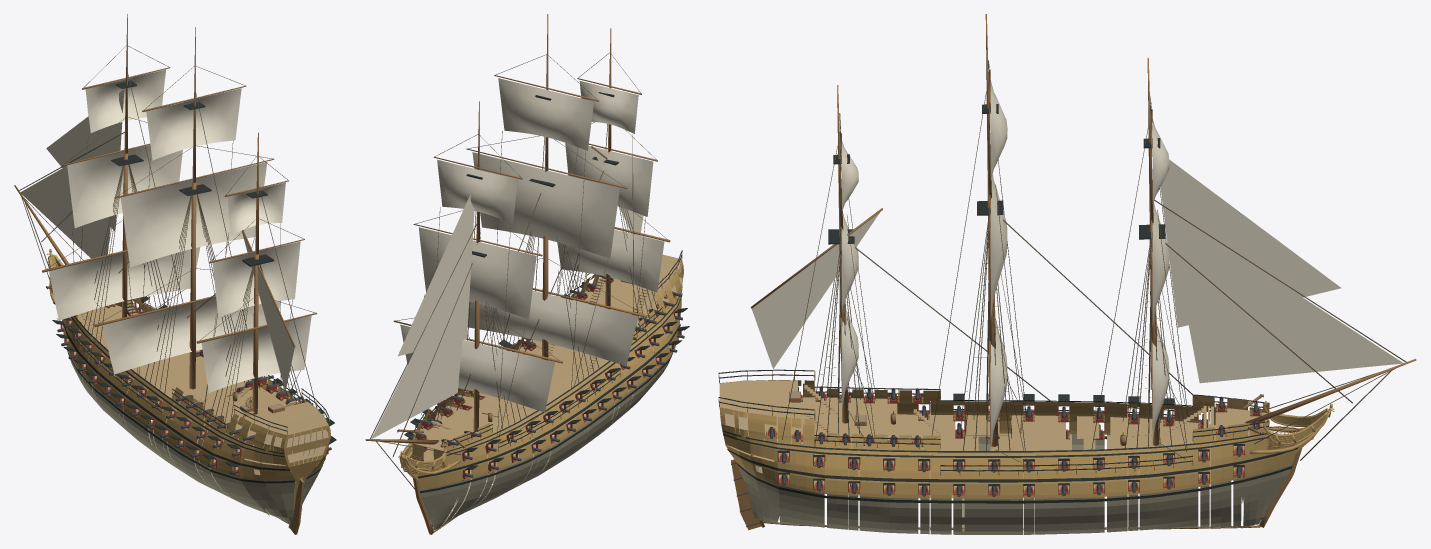
The model's file is bellona-lod1-mid.glb.
3 views of the same model, side by side, from view 1: azimuth 30°, elevation 25°; view 2: azimuth 150°, elevation 25°; view 3: azimuth 270°, elevation 25° (orthographic). The views are drawn at different scales.
Visible parts, largest first — view 1: canvas_main_1, sails__Unbleached_canvas.001, hull__Ochre_timber.001, rigging__Tarred_hemp.001, canvas_main_0, canvas_fore_0, hull_lower, canvas_fore_1, canvas_main_2, canvas_mizzen_0, canvas_mizzen_1, upper_gundeck (+16 smaller); view 2: sails__Unbleached_canvas.001, canvas_main_1, hull__Ochre_timber.001, canvas_main_0, hull_lower, rigging__Tarred_hemp.001, canvas_fore_1, canvas_fore_0, canvas_main_2, canvas_mizzen_0, upper_gundeck, canvas_mizzen_1 (+15 smaller); view 3: sails__Unbleached_canvas.001, hull__Ochre_timber.001, hull_lower, rigging__Tarred_hemp.001, upper_gundeck, hull__Black_tar_wales.001, upper_works__Ochre_timber.001, quarterdeck, decks__Black_tar_wales.001, poop_deck, lower_gundeck, hull__Gunport_inner_red.001 (+14 smaller).
Boxes of the visible parts, x1,y1,x2,y2 form: canvas_main_1: (120, 162, 267, 267); sails__Unbleached_canvas.001: (20, 89, 294, 391); hull__Ochre_timber.001: (63, 299, 328, 513); rigging__Tarred_hemp.001: (18, 45, 316, 430); canvas_main_0: (102, 297, 280, 374); canvas_fore_0: (49, 247, 200, 320); hull_lower: (63, 325, 322, 522); canvas_fore_1: (67, 145, 182, 227); canvas_main_2: (146, 88, 241, 160); canvas_mizzen_0: (201, 315, 311, 392); canvas_mizzen_1: (212, 241, 300, 317); upper_gundeck: (69, 305, 326, 465); sails__Unbleached_canvas.001: (371, 149, 643, 438); canvas_main_1: (472, 152, 619, 258); hull__Ochre_timber.001: (412, 293, 681, 489); canvas_main_0: (467, 290, 638, 365); hull_lower: (420, 345, 675, 530); rigging__Tarred_hemp.001: (370, 52, 667, 489); canvas_fore_1: (418, 227, 536, 319); canvas_fore_0: (400, 324, 554, 412); canvas_main_2: (498, 78, 593, 150); canvas_mizzen_0: (558, 229, 664, 292); upper_gundeck: (423, 301, 677, 466); canvas_mizzen_1: (565, 143, 653, 216); sails__Unbleached_canvas.001: (752, 160, 1403, 383); hull__Ochre_timber.001: (722, 400, 1298, 498); hull_lower: (736, 433, 1292, 534); rigging__Tarred_hemp.001: (780, 60, 1406, 466); upper_gundeck: (726, 414, 1264, 474); hull__Black_tar_wales.001: (722, 400, 1298, 503); upper_works__Ochre_timber.001: (719, 380, 1269, 450); quarterdeck: (723, 397, 897, 446); decks__Black_tar_wales.001: (718, 369, 1268, 471); poop_deck: (719, 380, 797, 417); lower_gundeck: (758, 433, 1244, 498); hull__Gunport_inner_red.001: (777, 403, 1245, 495).
Size of what is drawn, in the model's own units: 25.01 by 52.06 by 63.85.
